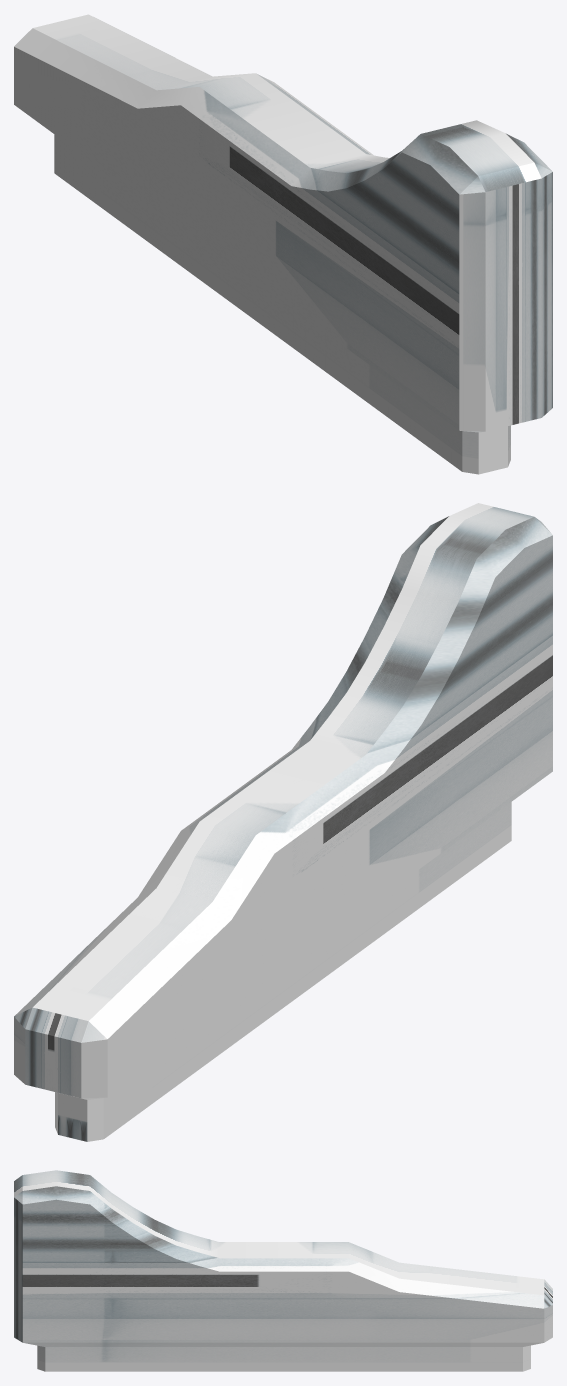
Rendered from centerthing.fbx.
The picture shows the model from 3 angles, top to bottom: view 1: azimuth 30°, elevation 25°; view 2: azimuth 150°, elevation 25°; view 3: azimuth 270°, elevation 25°; orthographic projection. The views are drawn at different scales.
Visible parts, largest first — view 1: centerthing_base:centerthing_base; view 2: centerthing_base:centerthing_base; view 3: centerthing_base:centerthing_base.
Part boxes in pixels (x1,y1,x2,y2): centerthing_base:centerthing_base: [14, 14, 552, 474]; centerthing_base:centerthing_base: [14, 503, 552, 1141]; centerthing_base:centerthing_base: [14, 1170, 552, 1371].
Bounding box in the file's own units: 7.98 × 25.98 × 68.
